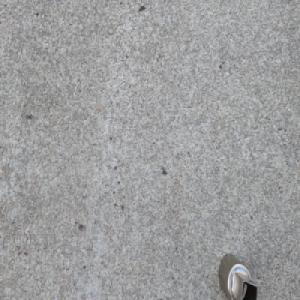MetalPart: (217, 251, 258, 300)
